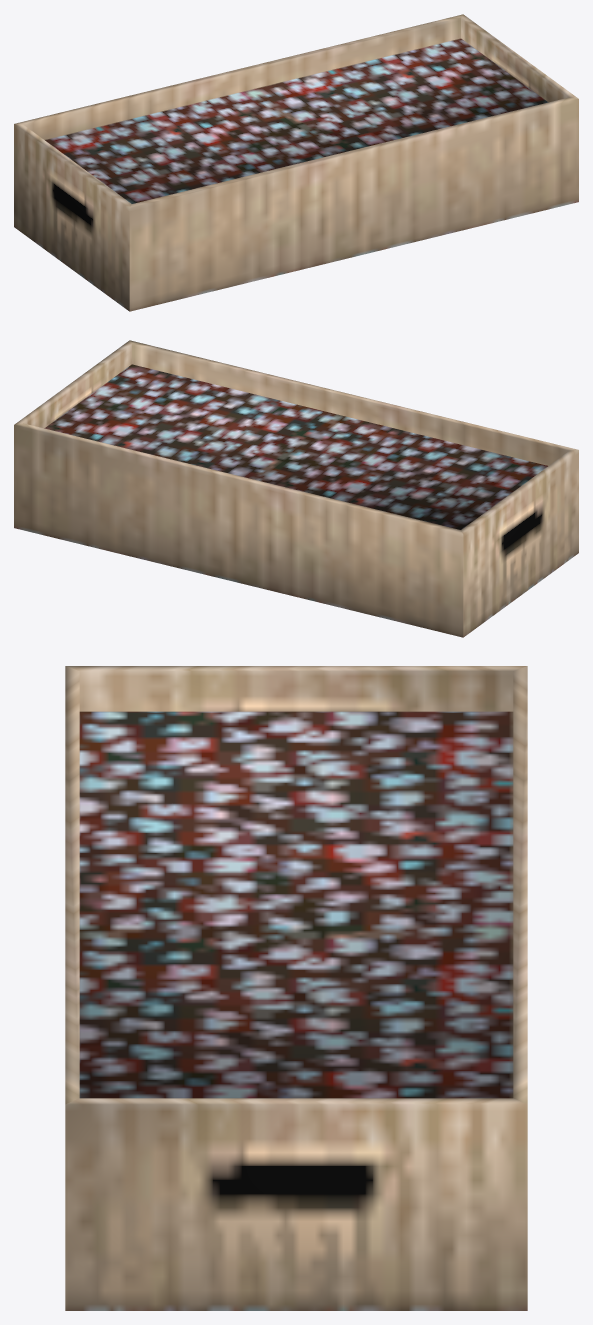
Rendered from VegBox03_Fruit.glb.
3 views of the same model, one above another, from view 1: azimuth 30°, elevation 25°; view 2: azimuth 150°, elevation 25°; view 3: azimuth 270°, elevation 25° (orthographic). The views are drawn at different scales.
Parts seen in each view (by area): view 1: VEGBOX03_FRUIT; view 2: VEGBOX03_FRUIT; view 3: VEGBOX03_FRUIT.
Boxes of the visible parts, left/top/right/bottom form: VEGBOX03_FRUIT: left=14, top=14, right=578, bottom=311; VEGBOX03_FRUIT: left=14, top=340, right=578, bottom=637; VEGBOX03_FRUIT: left=65, top=666, right=527, bottom=1310.
Bounding box in the file's own units: 1.44 × 0.316 × 0.64.
1 material, 1 textured.
